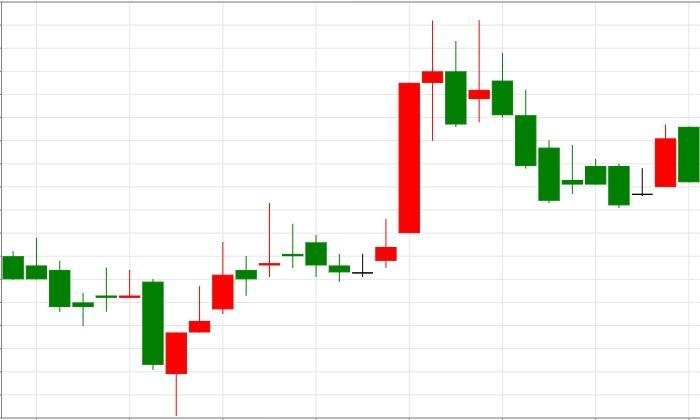three_black_crows_fall: (376, 19, 560, 268)
